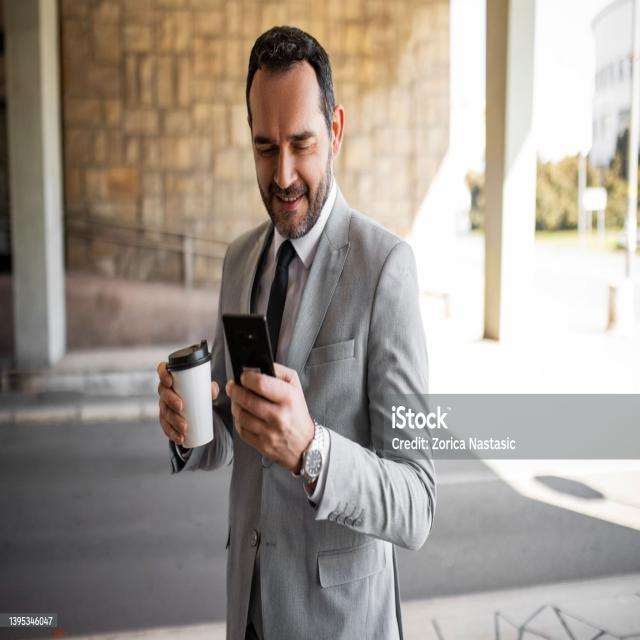cup: (165, 337, 217, 452)
